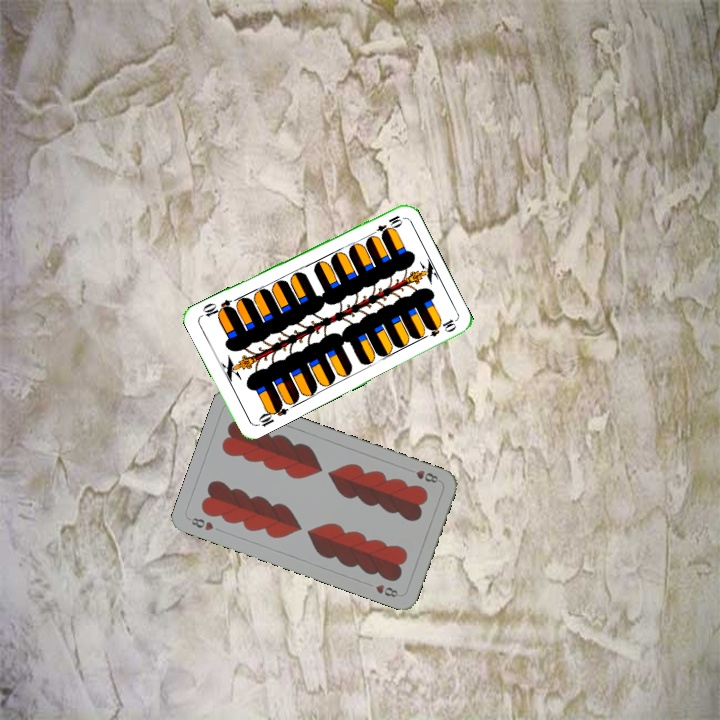E10: (252, 399, 290, 430), (366, 211, 405, 239)
H8: (185, 513, 216, 533), (412, 466, 441, 486)
